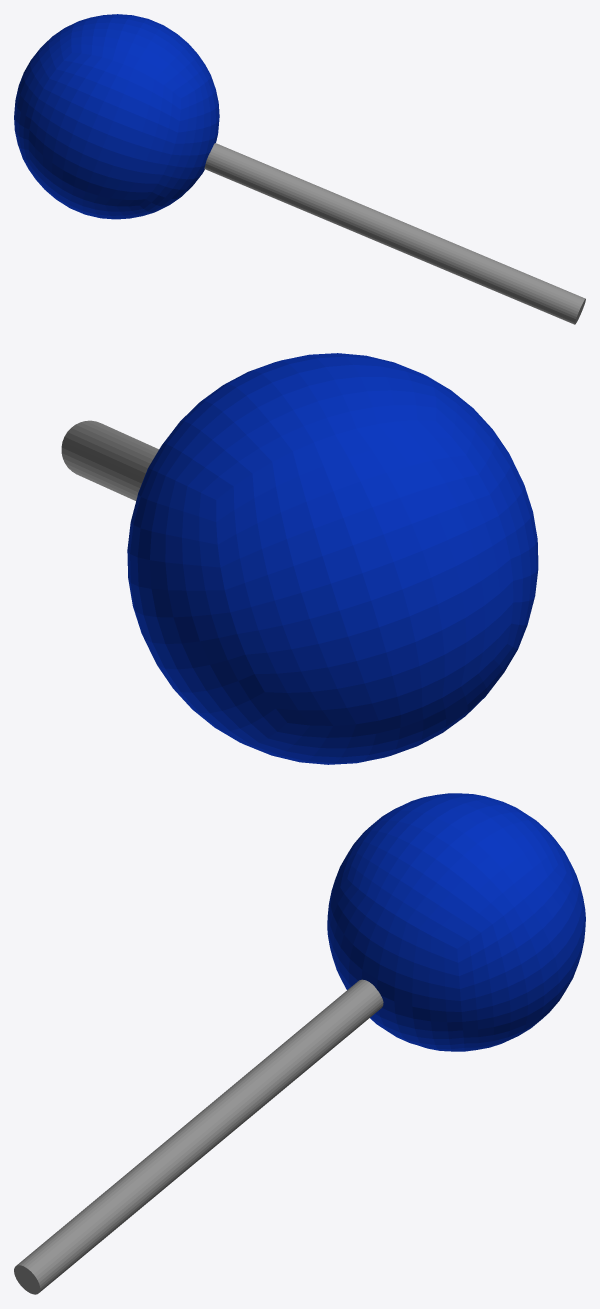
File: stecknadel Ägypten.glb
3 renders of one model, top to bottom at view 1: azimuth 30°, elevation 25°; view 2: azimuth 150°, elevation 25°; view 3: azimuth 270°, elevation 25°, orthographic. The views are drawn at different scales.
Visible parts, largest first — view 1: Zylinder; view 2: Zylinder; view 3: Zylinder.
Part boxes in pixels (x1=…): Zylinder: x1=14, y1=14, x2=585, y2=324; Zylinder: x1=61, y1=353, x2=538, y2=764; Zylinder: x1=14, y1=793, x2=585, y2=1294.
Bounding box in the file's own units: 0.1996 × 0.1202 × 0.2011.
